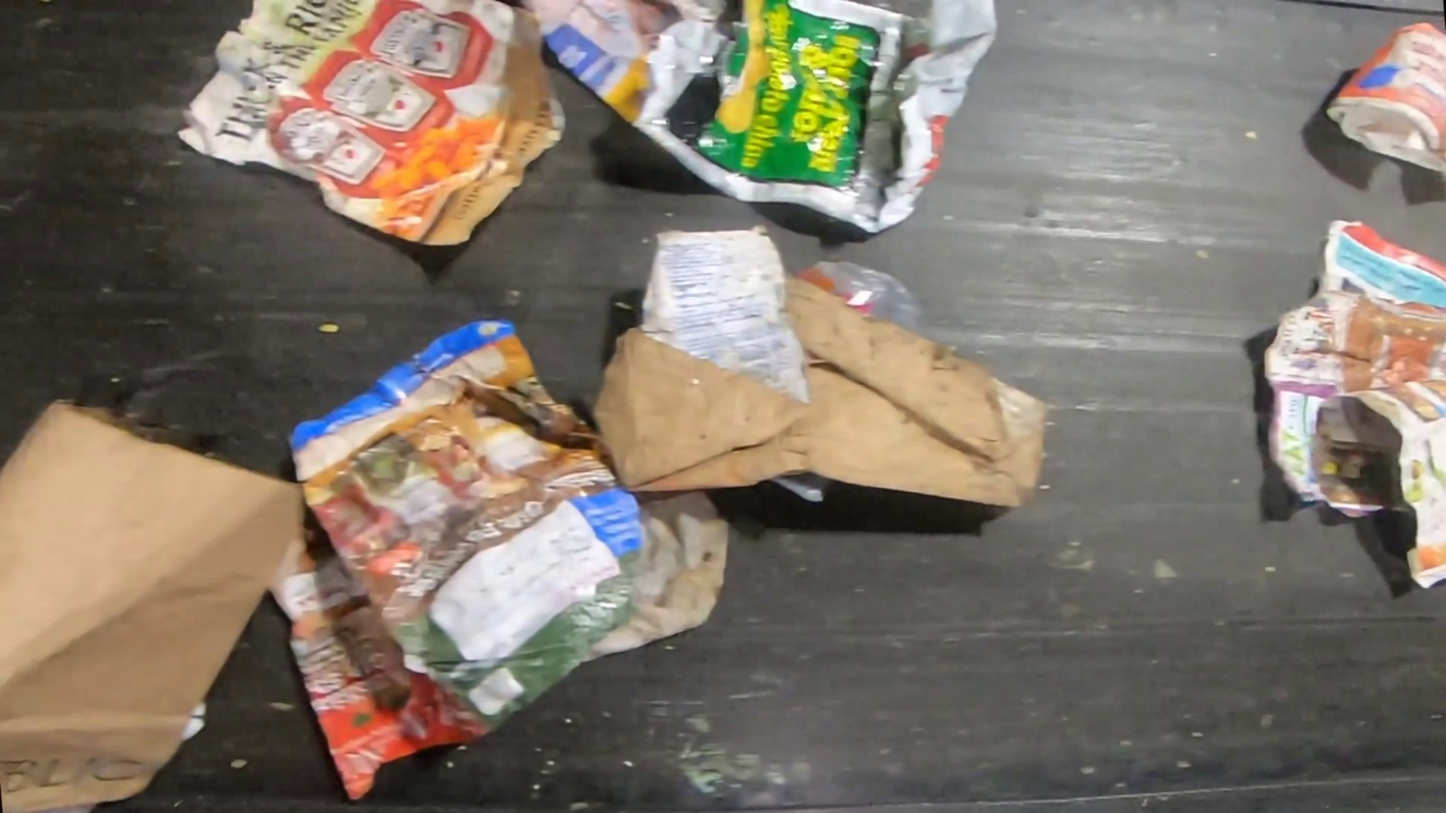cardboard: (593, 230, 1046, 511), (0, 396, 304, 812)
plastic: (632, 1, 998, 236), (1325, 23, 1446, 177), (798, 258, 931, 335), (770, 469, 825, 503)
